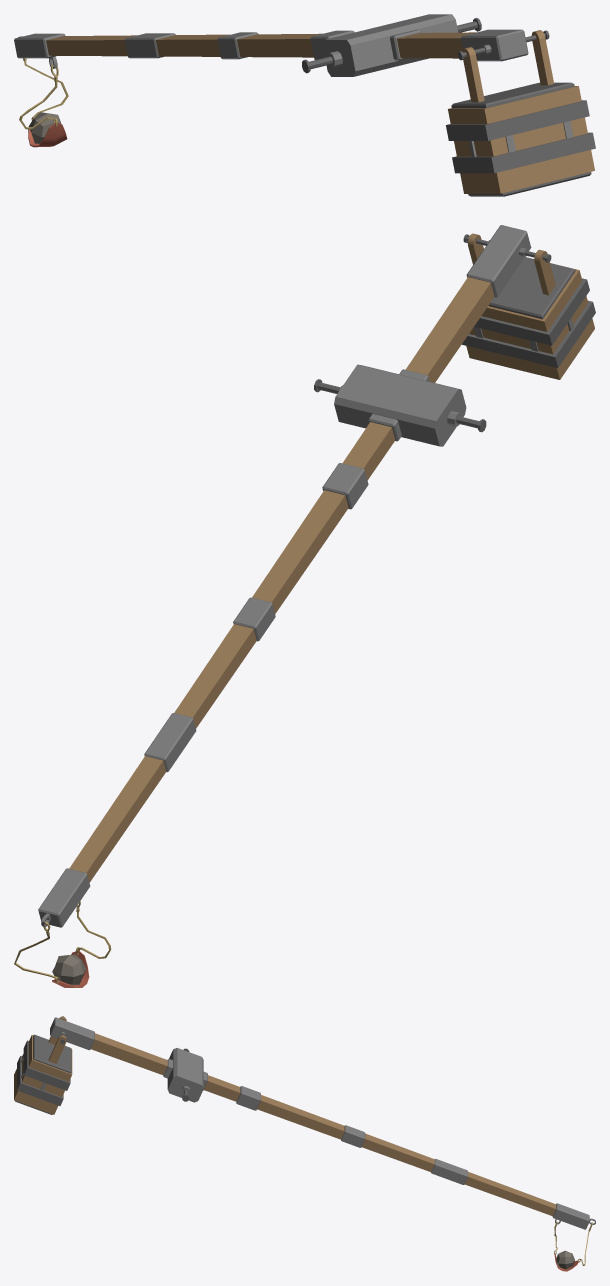
File: Trebuchet_Arm_Pose_01.fbx
The picture shows the model from 3 angles, top to bottom: view 1: azimuth 30°, elevation 25°; view 2: azimuth 150°, elevation 25°; view 3: azimuth 270°, elevation 25°; orthographic projection. The views are drawn at different scales.
Parts seen in each view (by area): view 1: Trebuchet_Arm_Pose_01; view 2: Trebuchet_Arm_Pose_01; view 3: Trebuchet_Arm_Pose_01.
Boxes of the visible parts, bbox=[...] form: Trebuchet_Arm_Pose_01: bbox=[14, 14, 595, 196]; Trebuchet_Arm_Pose_01: bbox=[14, 225, 595, 987]; Trebuchet_Arm_Pose_01: bbox=[14, 1016, 595, 1271].
Bounding box in the file's own units: 74.36 × 185 × 393.
